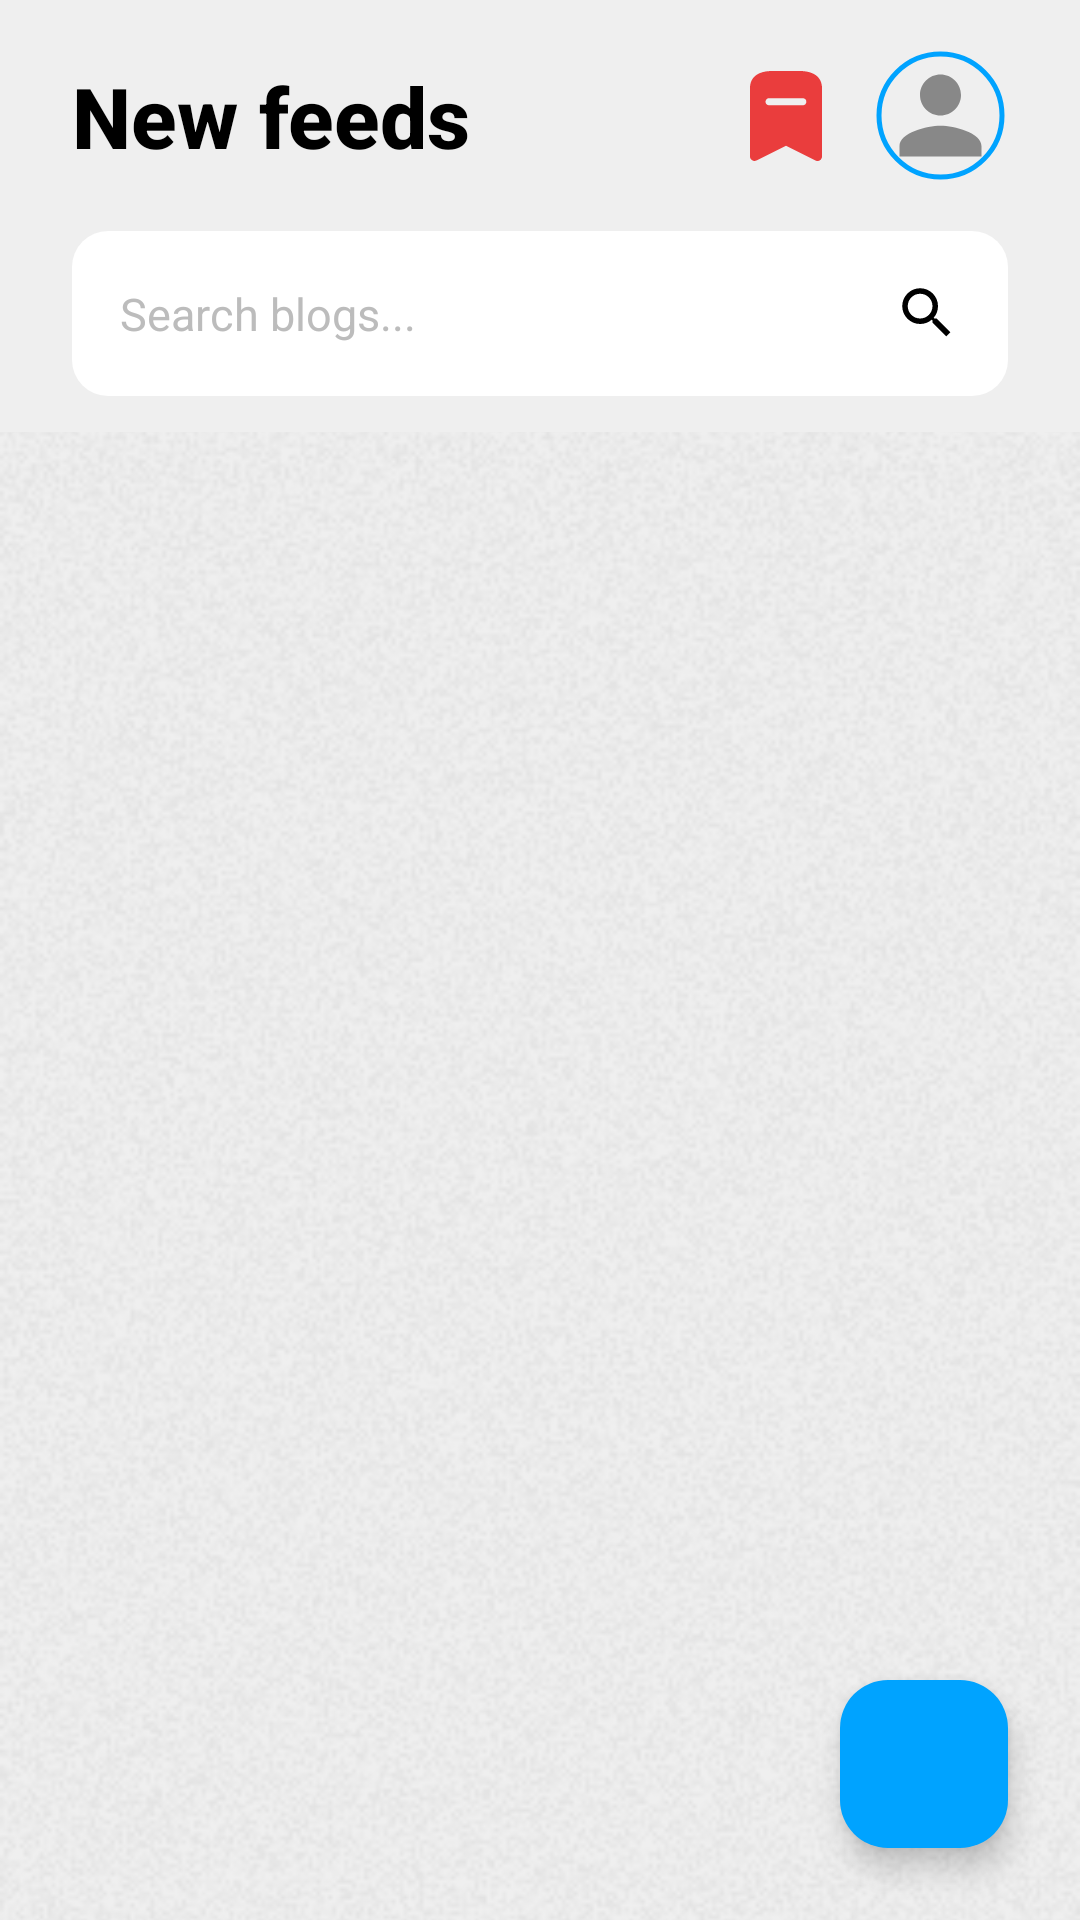

Icon click points for this 1080 × 1920 phone screenshot, format [x,y]:
person: [940,115]
savered: [786,116]
